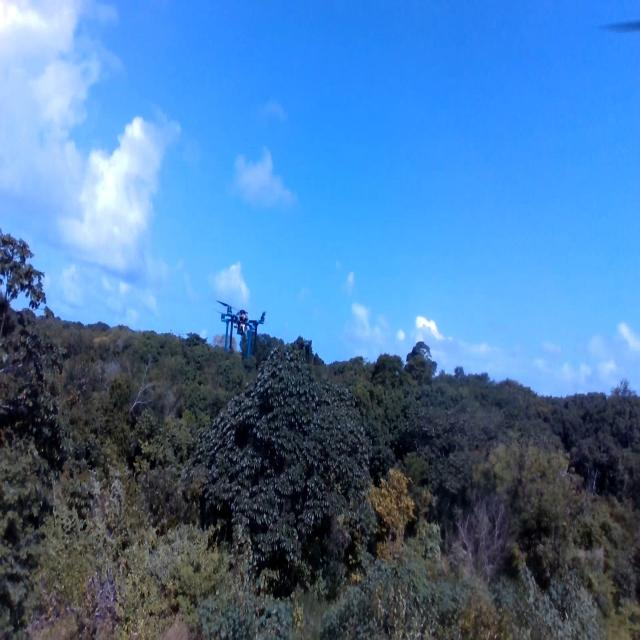-uav-: (210, 289, 268, 366)
